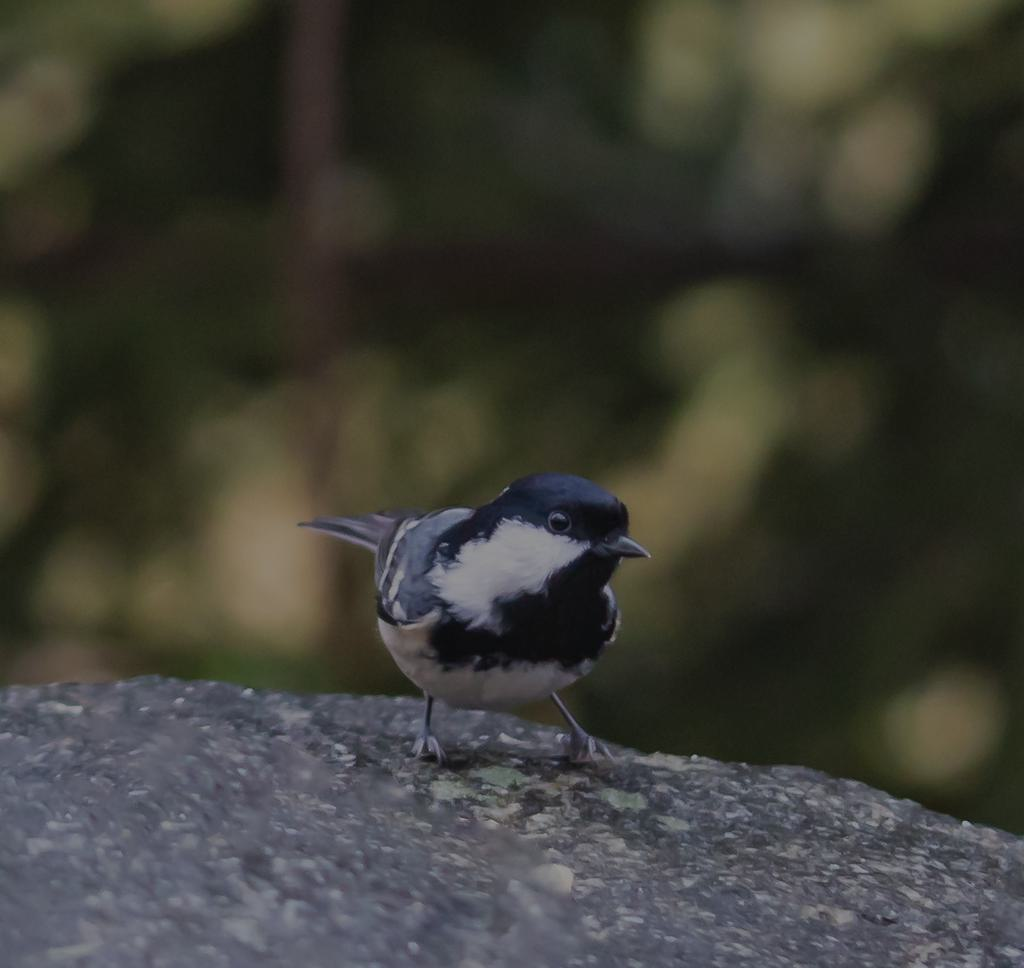PeriparusAter: (294, 473, 653, 773)
